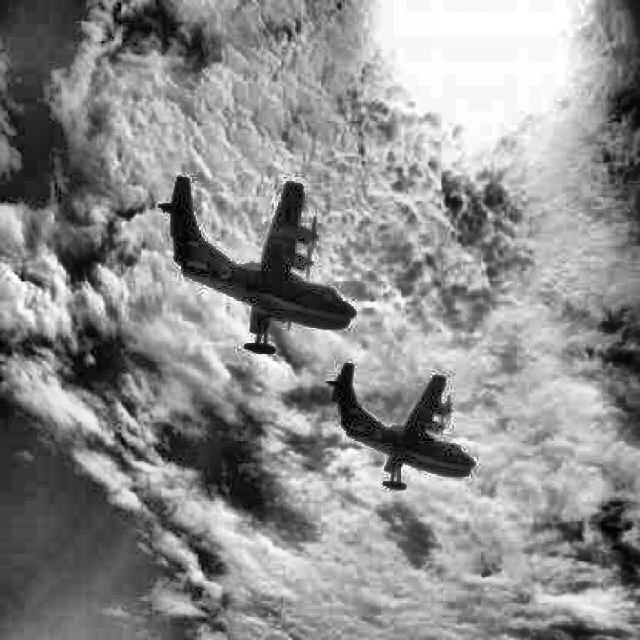US2: (158, 174, 356, 354), (326, 362, 476, 489)
